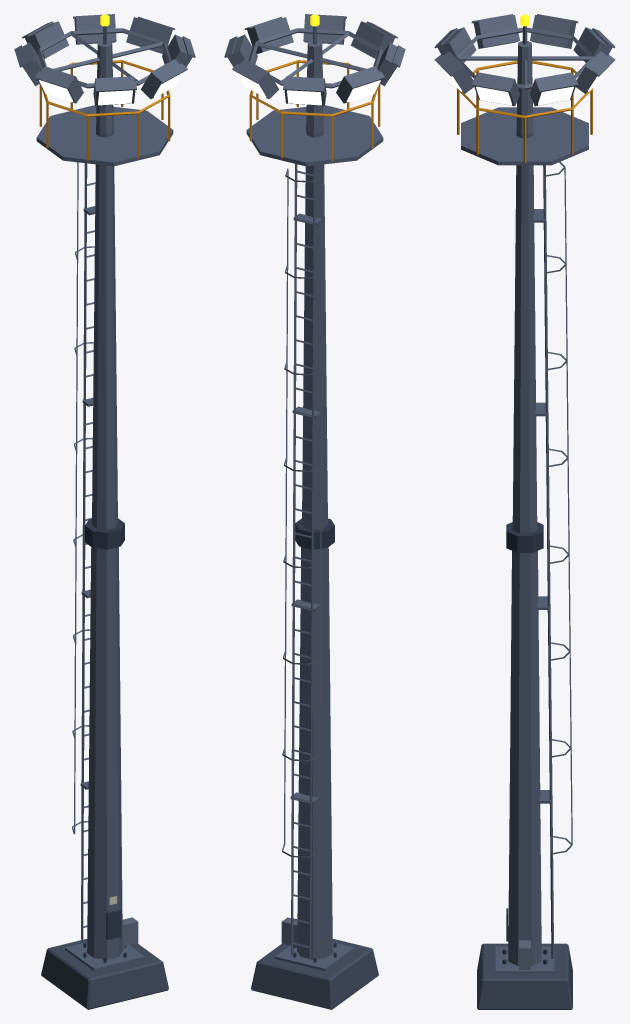
Rendered from port_light_tower.glb.
3 views of the same model, side by side, from view 1: azimuth 30°, elevation 25°; view 2: azimuth 150°, elevation 25°; view 3: azimuth 270°, elevation 25° (orthographic).
Visible parts, largest first — view 1: mast, headframe, plinth, railing, fittings, flood_lens; view 2: mast, headframe, plinth, railing, flood_lens, fittings; view 3: mast, headframe, plinth, railing, flood_lens, fittings.
Boxes of the visible parts, x1,y1,x2,y2 form: mast: (36, 26, 173, 971); headframe: (14, 14, 195, 946); plinth: (41, 939, 168, 1009); railing: (39, 60, 170, 161); fittings: (83, 518, 126, 962); flood_lens: (21, 58, 192, 105); mast: (246, 26, 383, 971); headframe: (224, 14, 405, 946); plinth: (251, 939, 378, 1009); railing: (249, 60, 380, 161); flood_lens: (227, 58, 398, 105); fittings: (293, 518, 336, 962); mast: (461, 26, 588, 973); headframe: (434, 14, 615, 969); plinth: (477, 943, 572, 1009); railing: (457, 60, 592, 162); flood_lens: (439, 65, 610, 105); fittings: (502, 522, 547, 964).
Size of the model in its own units: 3.39 by 20.12 by 3.39.
